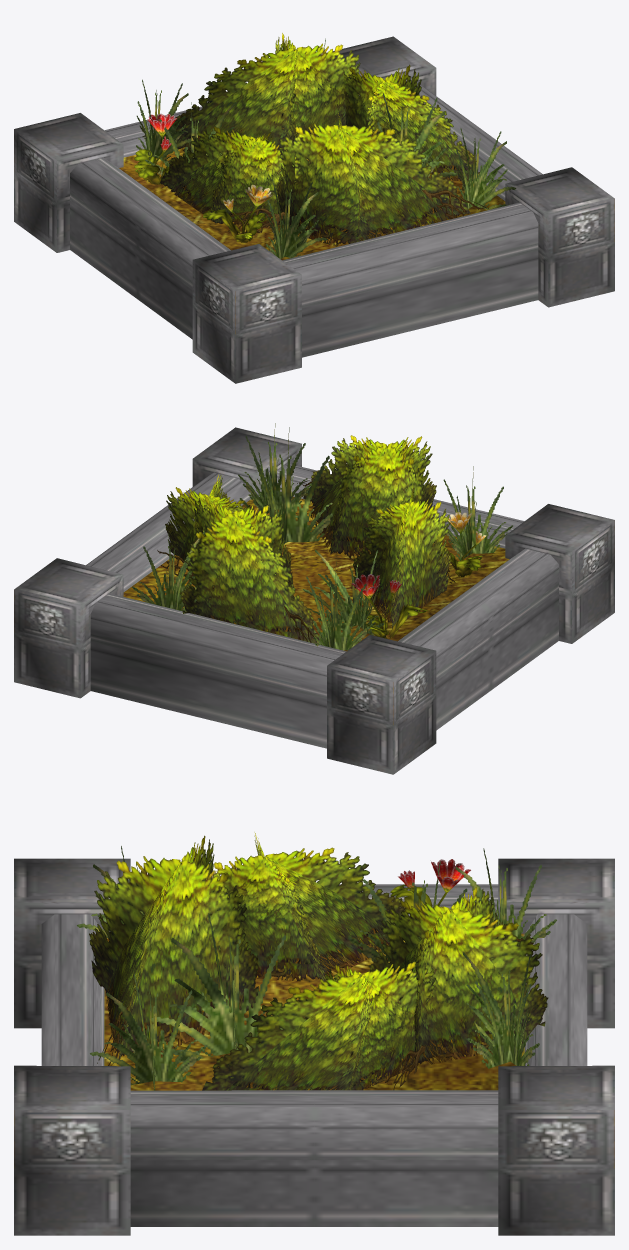
The model's file is stormwindplanter.obj.
3 renders of one model, top to bottom at view 1: azimuth 30°, elevation 25°; view 2: azimuth 150°, elevation 25°; view 3: azimuth 270°, elevation 25°, orthographic. The views are drawn at different scales.
Visible parts, largest first — view 1: stormwindplanter; view 2: stormwindplanter; view 3: stormwindplanter.
Part boxes in pixels (x1,y1,x2,y2): stormwindplanter: (14,33,614,383); stormwindplanter: (14,423,614,774); stormwindplanter: (14,832,614,1235).
Size of the model in its own units: 5.27 by 2.43 by 5.33.
1 material, 1 textured.
